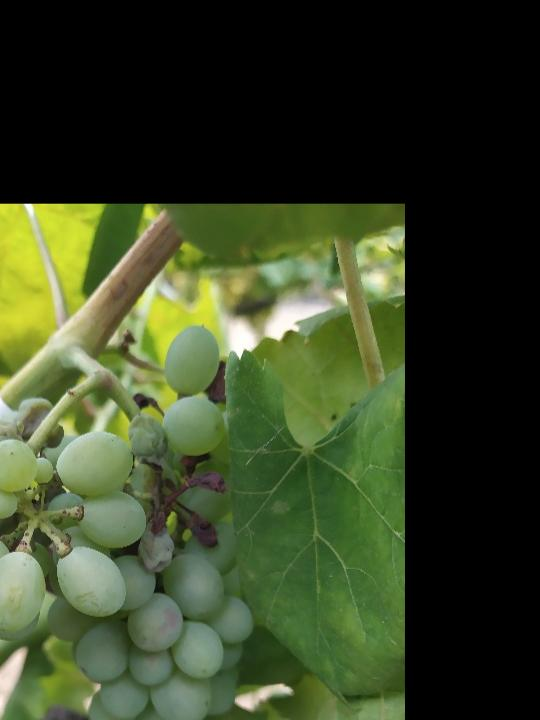grape: (0, 323, 256, 720)
